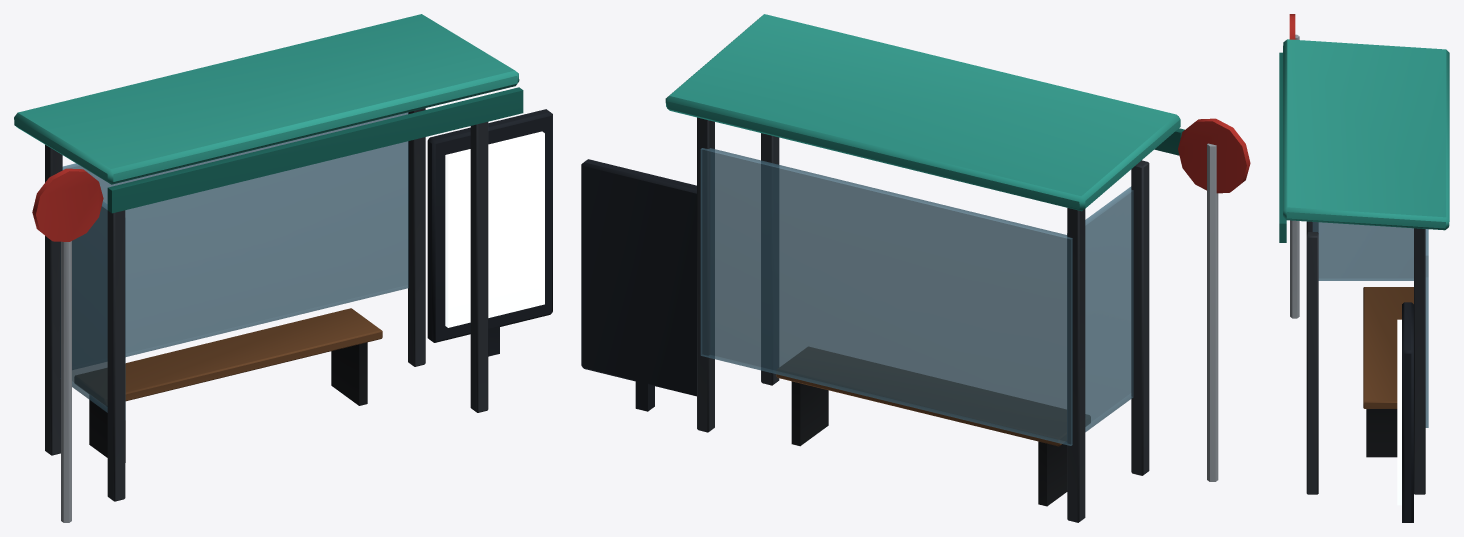
Rendered from parada_bus.glb.
The picture shows the model from 3 angles, left to right: view 1: azimuth 30°, elevation 25°; view 2: azimuth 150°, elevation 25°; view 3: azimuth 270°, elevation 25°; orthographic projection. The views are drawn at different scales.
Visible parts, largest first — view 1: parada_bus; view 2: parada_bus; view 3: parada_bus.
Part boxes in pixels (<box>): parada_bus: <box>14,14,552,522</box>; parada_bus: <box>581,14,1250,522</box>; parada_bus: <box>1279,14,1449,522</box>.
Bounding box in the file's own units: 4.83 × 2.78 × 1.43.
